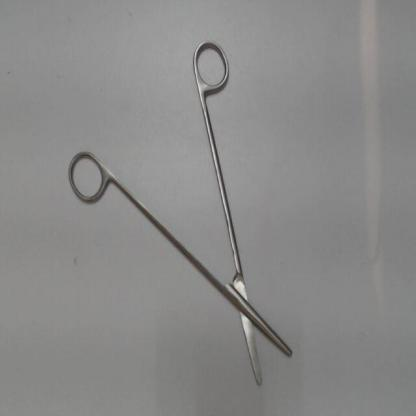9 Metzenbaum Scissors: (63, 30, 300, 391)
